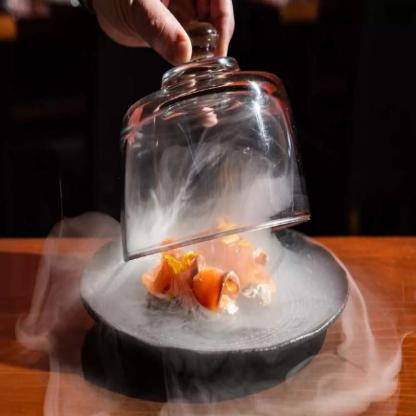smoke: (17, 211, 407, 416)
